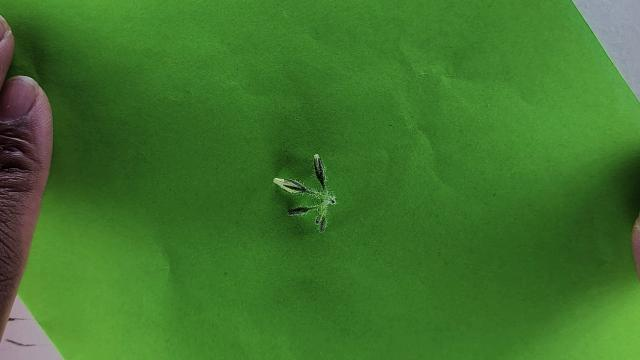Flower Bud: (272, 177, 311, 195), (313, 153, 328, 195), (310, 151, 328, 184), (286, 205, 321, 217)
